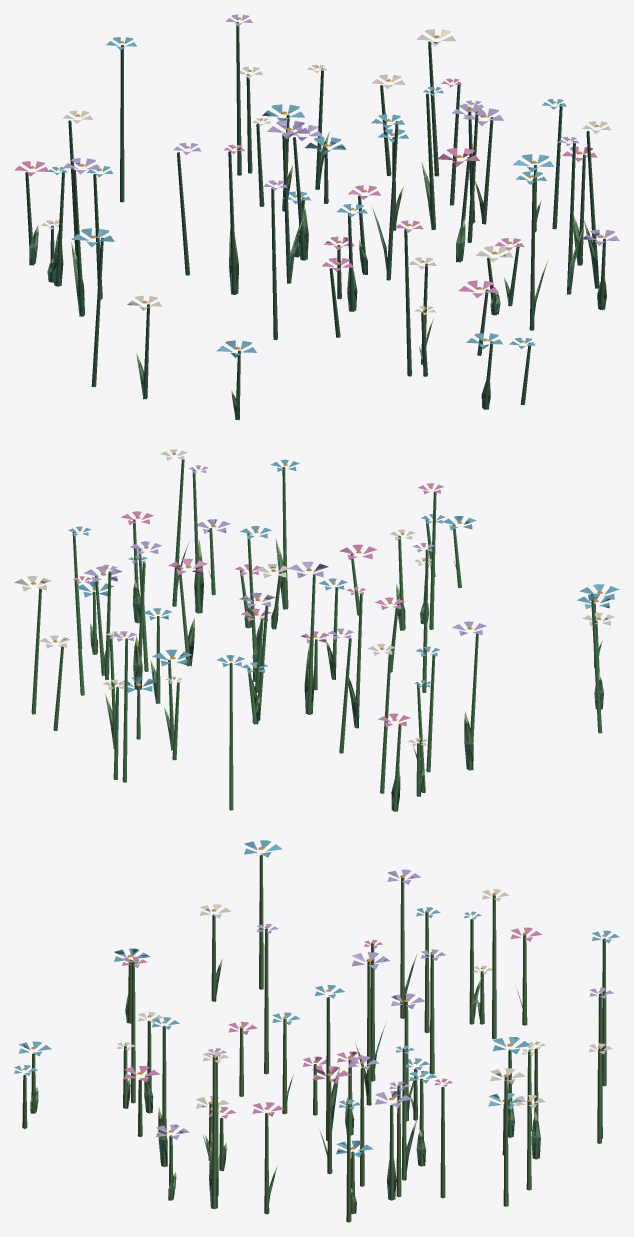
Rendered from Wetland_12_Flores_Ribera.glb.
3 views of the same model, one above another, from view 1: azimuth 30°, elevation 25°; view 2: azimuth 150°, elevation 25°; view 3: azimuth 270°, elevation 25° (orthographic). The views are drawn at different scales.
Parts seen in each view (by area): view 1: Wetland_12_Flores_Ribera; view 2: Wetland_12_Flores_Ribera; view 3: Wetland_12_Flores_Ribera.
Boxes of the visible parts, left/top/right/bottom form: Wetland_12_Flores_Ribera: left=14, top=14, right=619, bottom=420; Wetland_12_Flores_Ribera: left=14, top=449, right=619, bottom=811; Wetland_12_Flores_Ribera: left=14, top=840, right=619, bottom=1222.
Bounding box in the file's own units: 2.16 × 0.6274 × 2.24.
